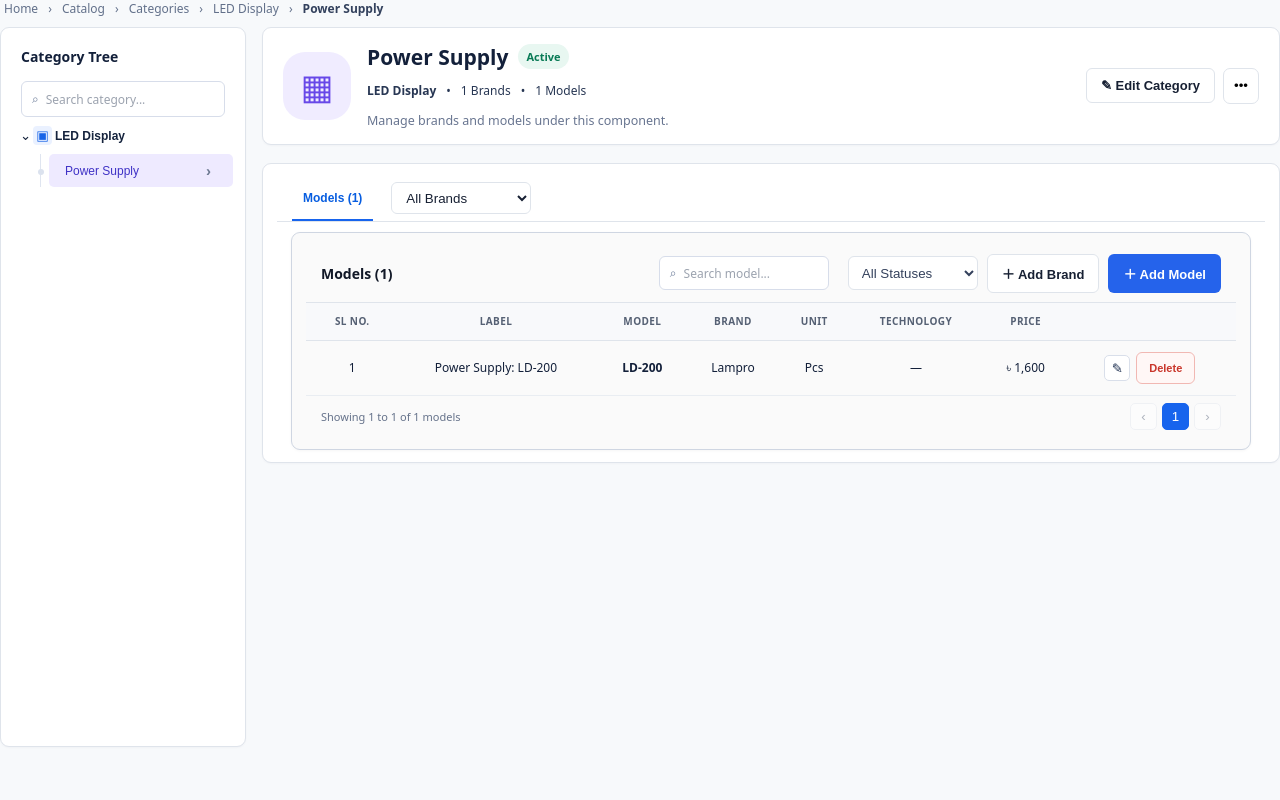
deletes a model from the Models table after confirmation
This screenshot has width=1280, height=800.
Step 1. Click the button with aria-label "Delete LD-200" → (1166, 368), box [1136,352,1195,384]
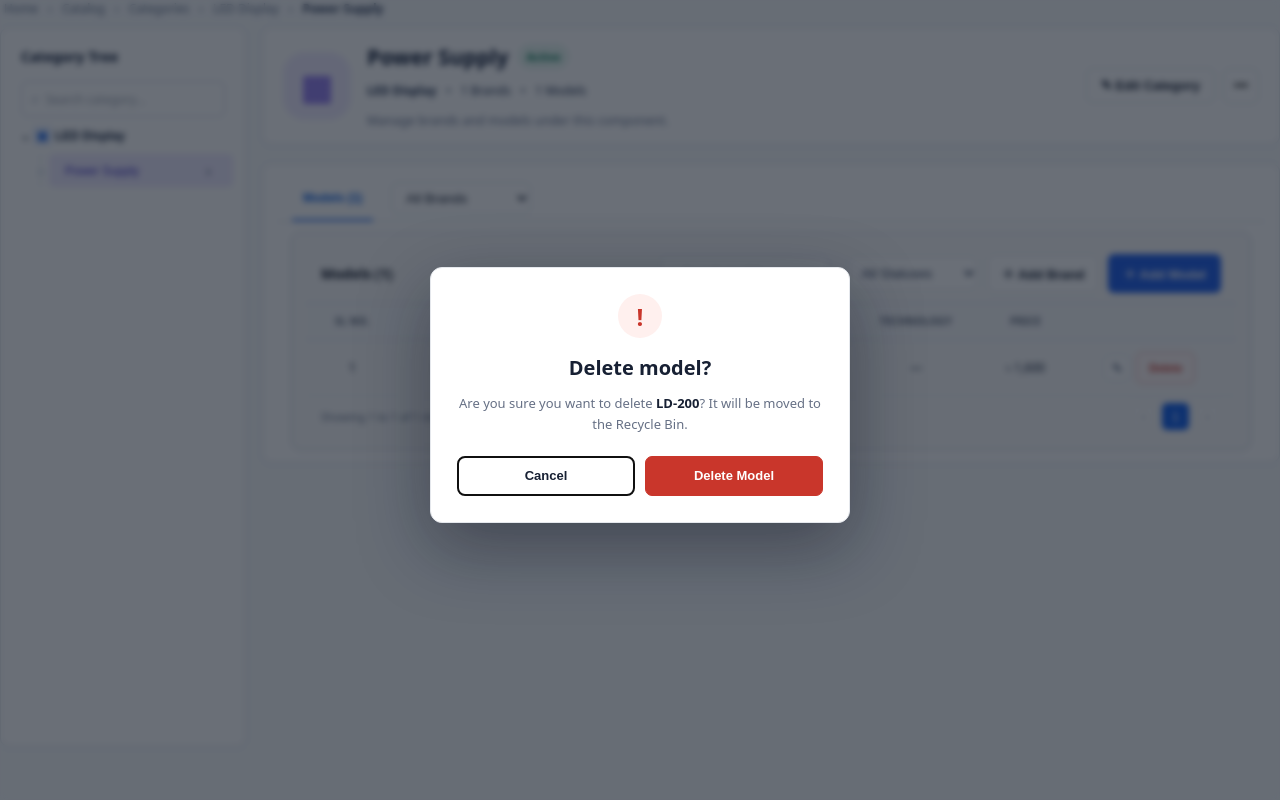
Result: the text "LD-200" is shown at [656,394,700,412]
Step 2. Click the button "Cancel" → (546, 476), box [457,456,635,496]
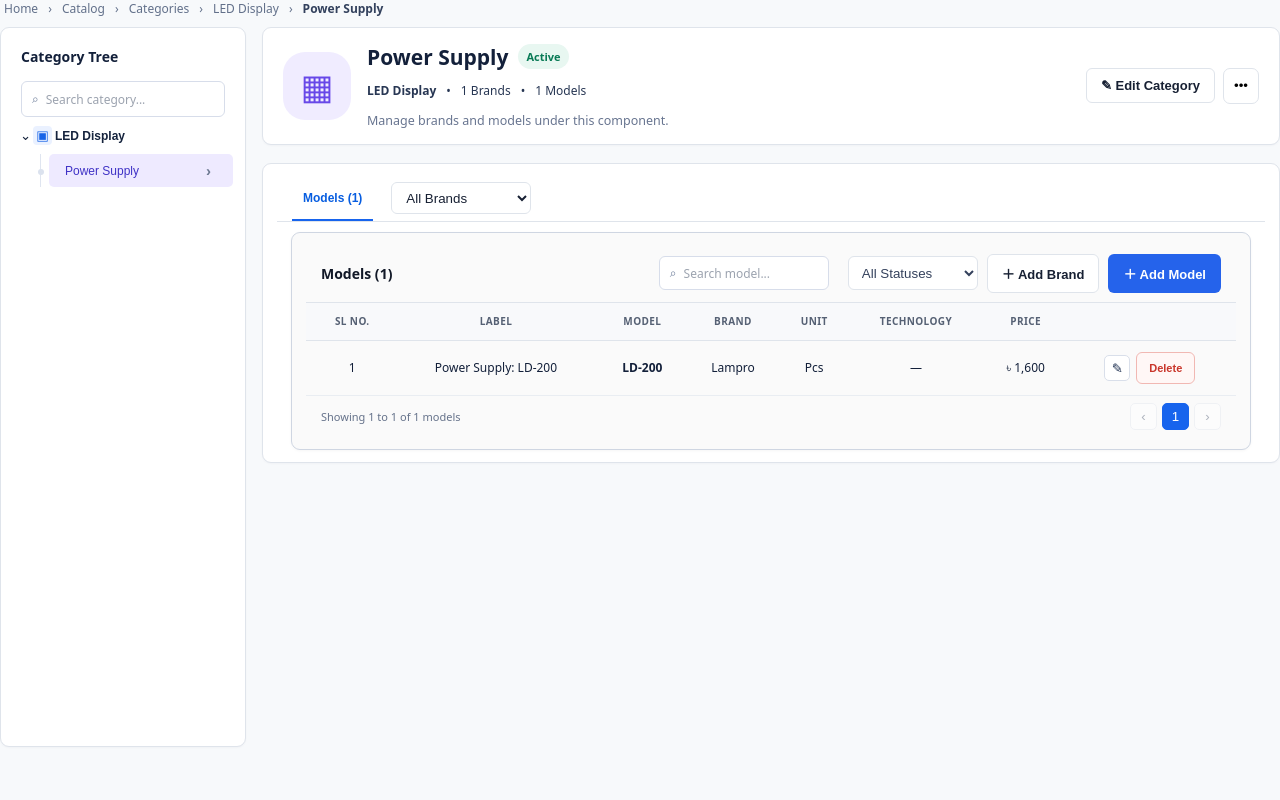
Result: the heading "Delete model?" is gone
Step 3. Click the button with aria-label "Delete LD-200" → (1166, 368), box [1136,352,1195,384]
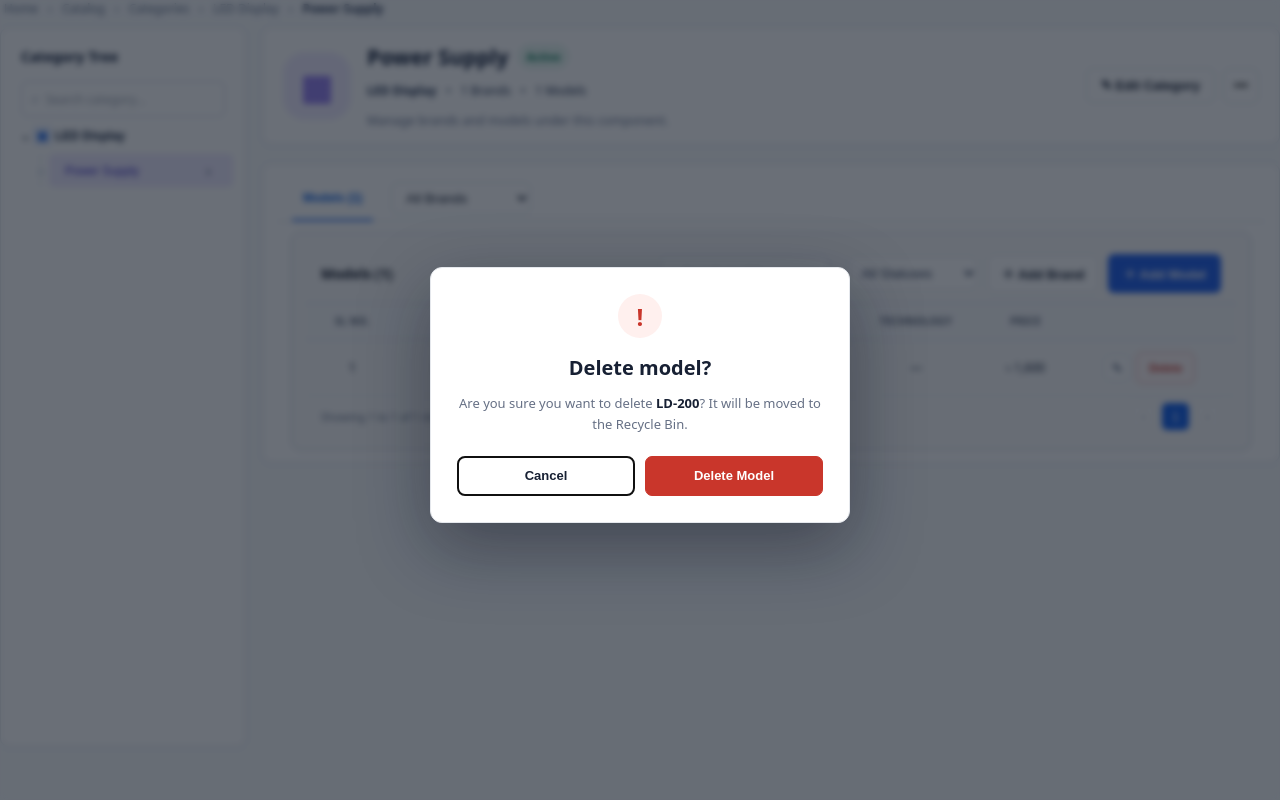
Step 4. Click the button "Delete Model" → (734, 476), box [645,456,823,496]
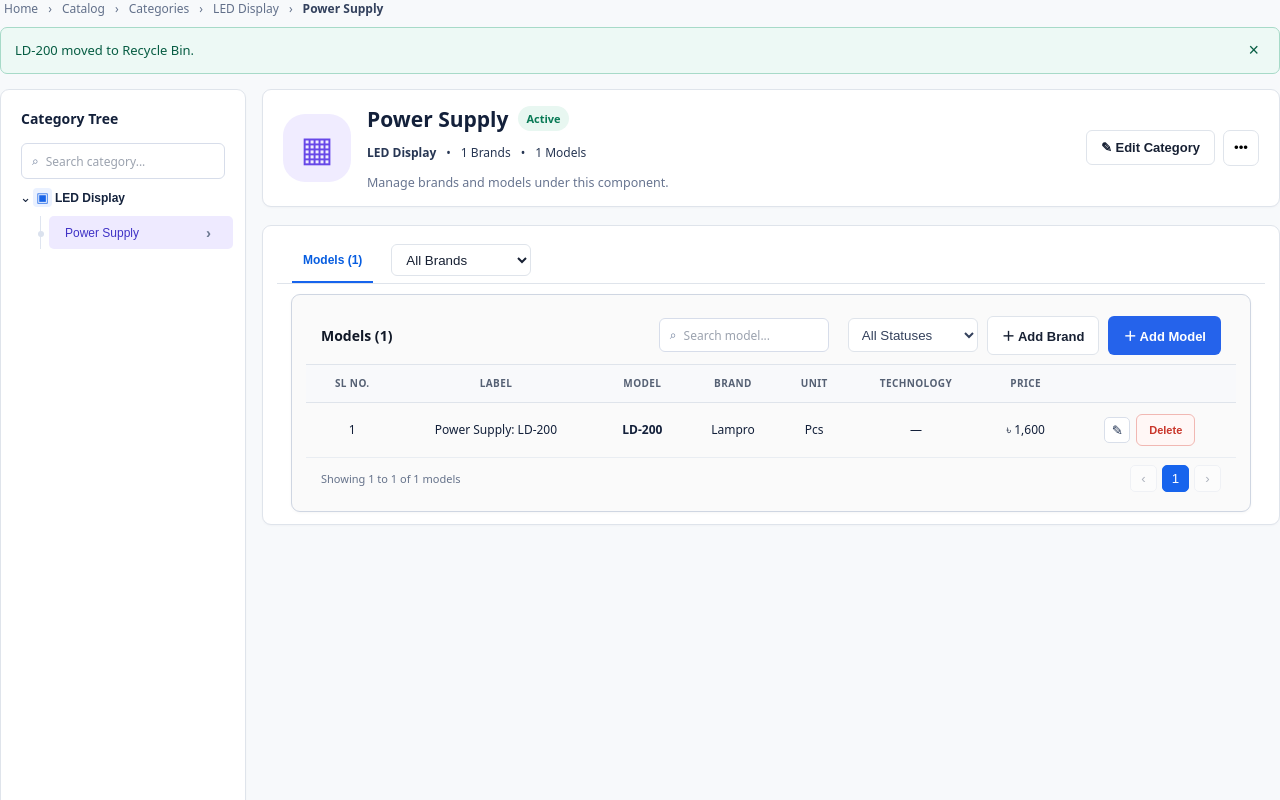
Result: the heading "Delete model?" is gone
Result: the text "LD-200 moved to Recycle Bin." is shown at [15,40,194,60]
